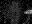person: (26, 11, 31, 16)
